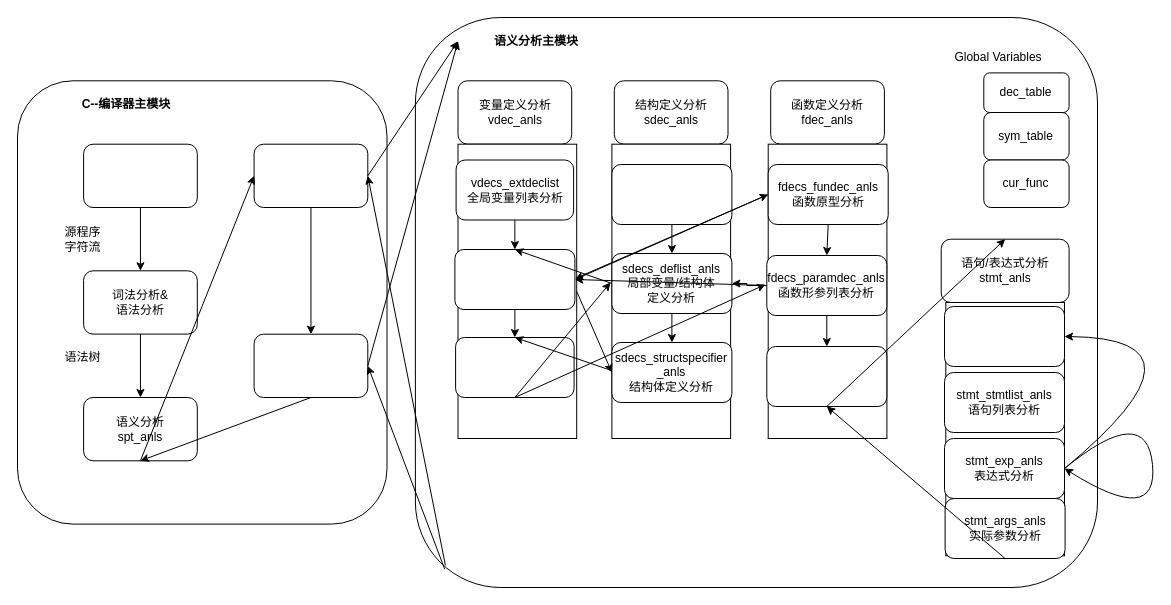
Some shapes in this 1171 by 605 pixel diagram are drawn without their labels. The shapes that lost their labels are listed below. From the top down, each one's centre as x and y in pixels, then its label:
point 140,175: 读入cmm文件
point 310,175: DFS 定义分析
point 671,194: sdecs_declist_anls 局部变量列表分析
point 514,279: vdecs_specifier_anls 变量类型获取
point 1004,336: stmt_compst_anls 复合语句分析
point 310,365: DFS 函数声明分析
point 514,367: vdecs_vardec 变量名获取、 变量追加符号表
point 826,376: fdecs_varlist_anls 函数形式参数分析
